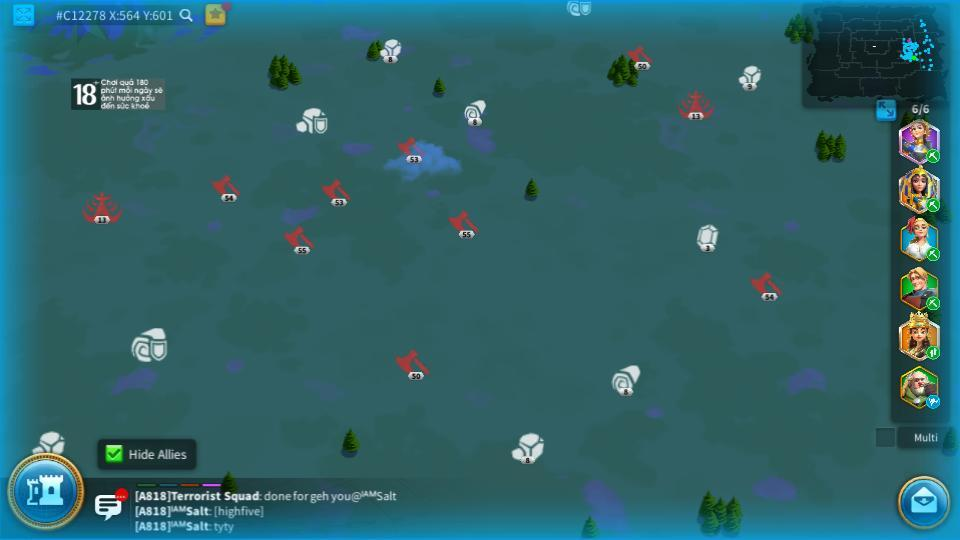gem-z-out: (695, 225, 719, 252)
march_farming: (925, 197, 941, 212), (924, 149, 939, 162), (926, 250, 940, 261)
march_idle: (925, 396, 942, 408)
march_marching: (925, 347, 941, 359)
